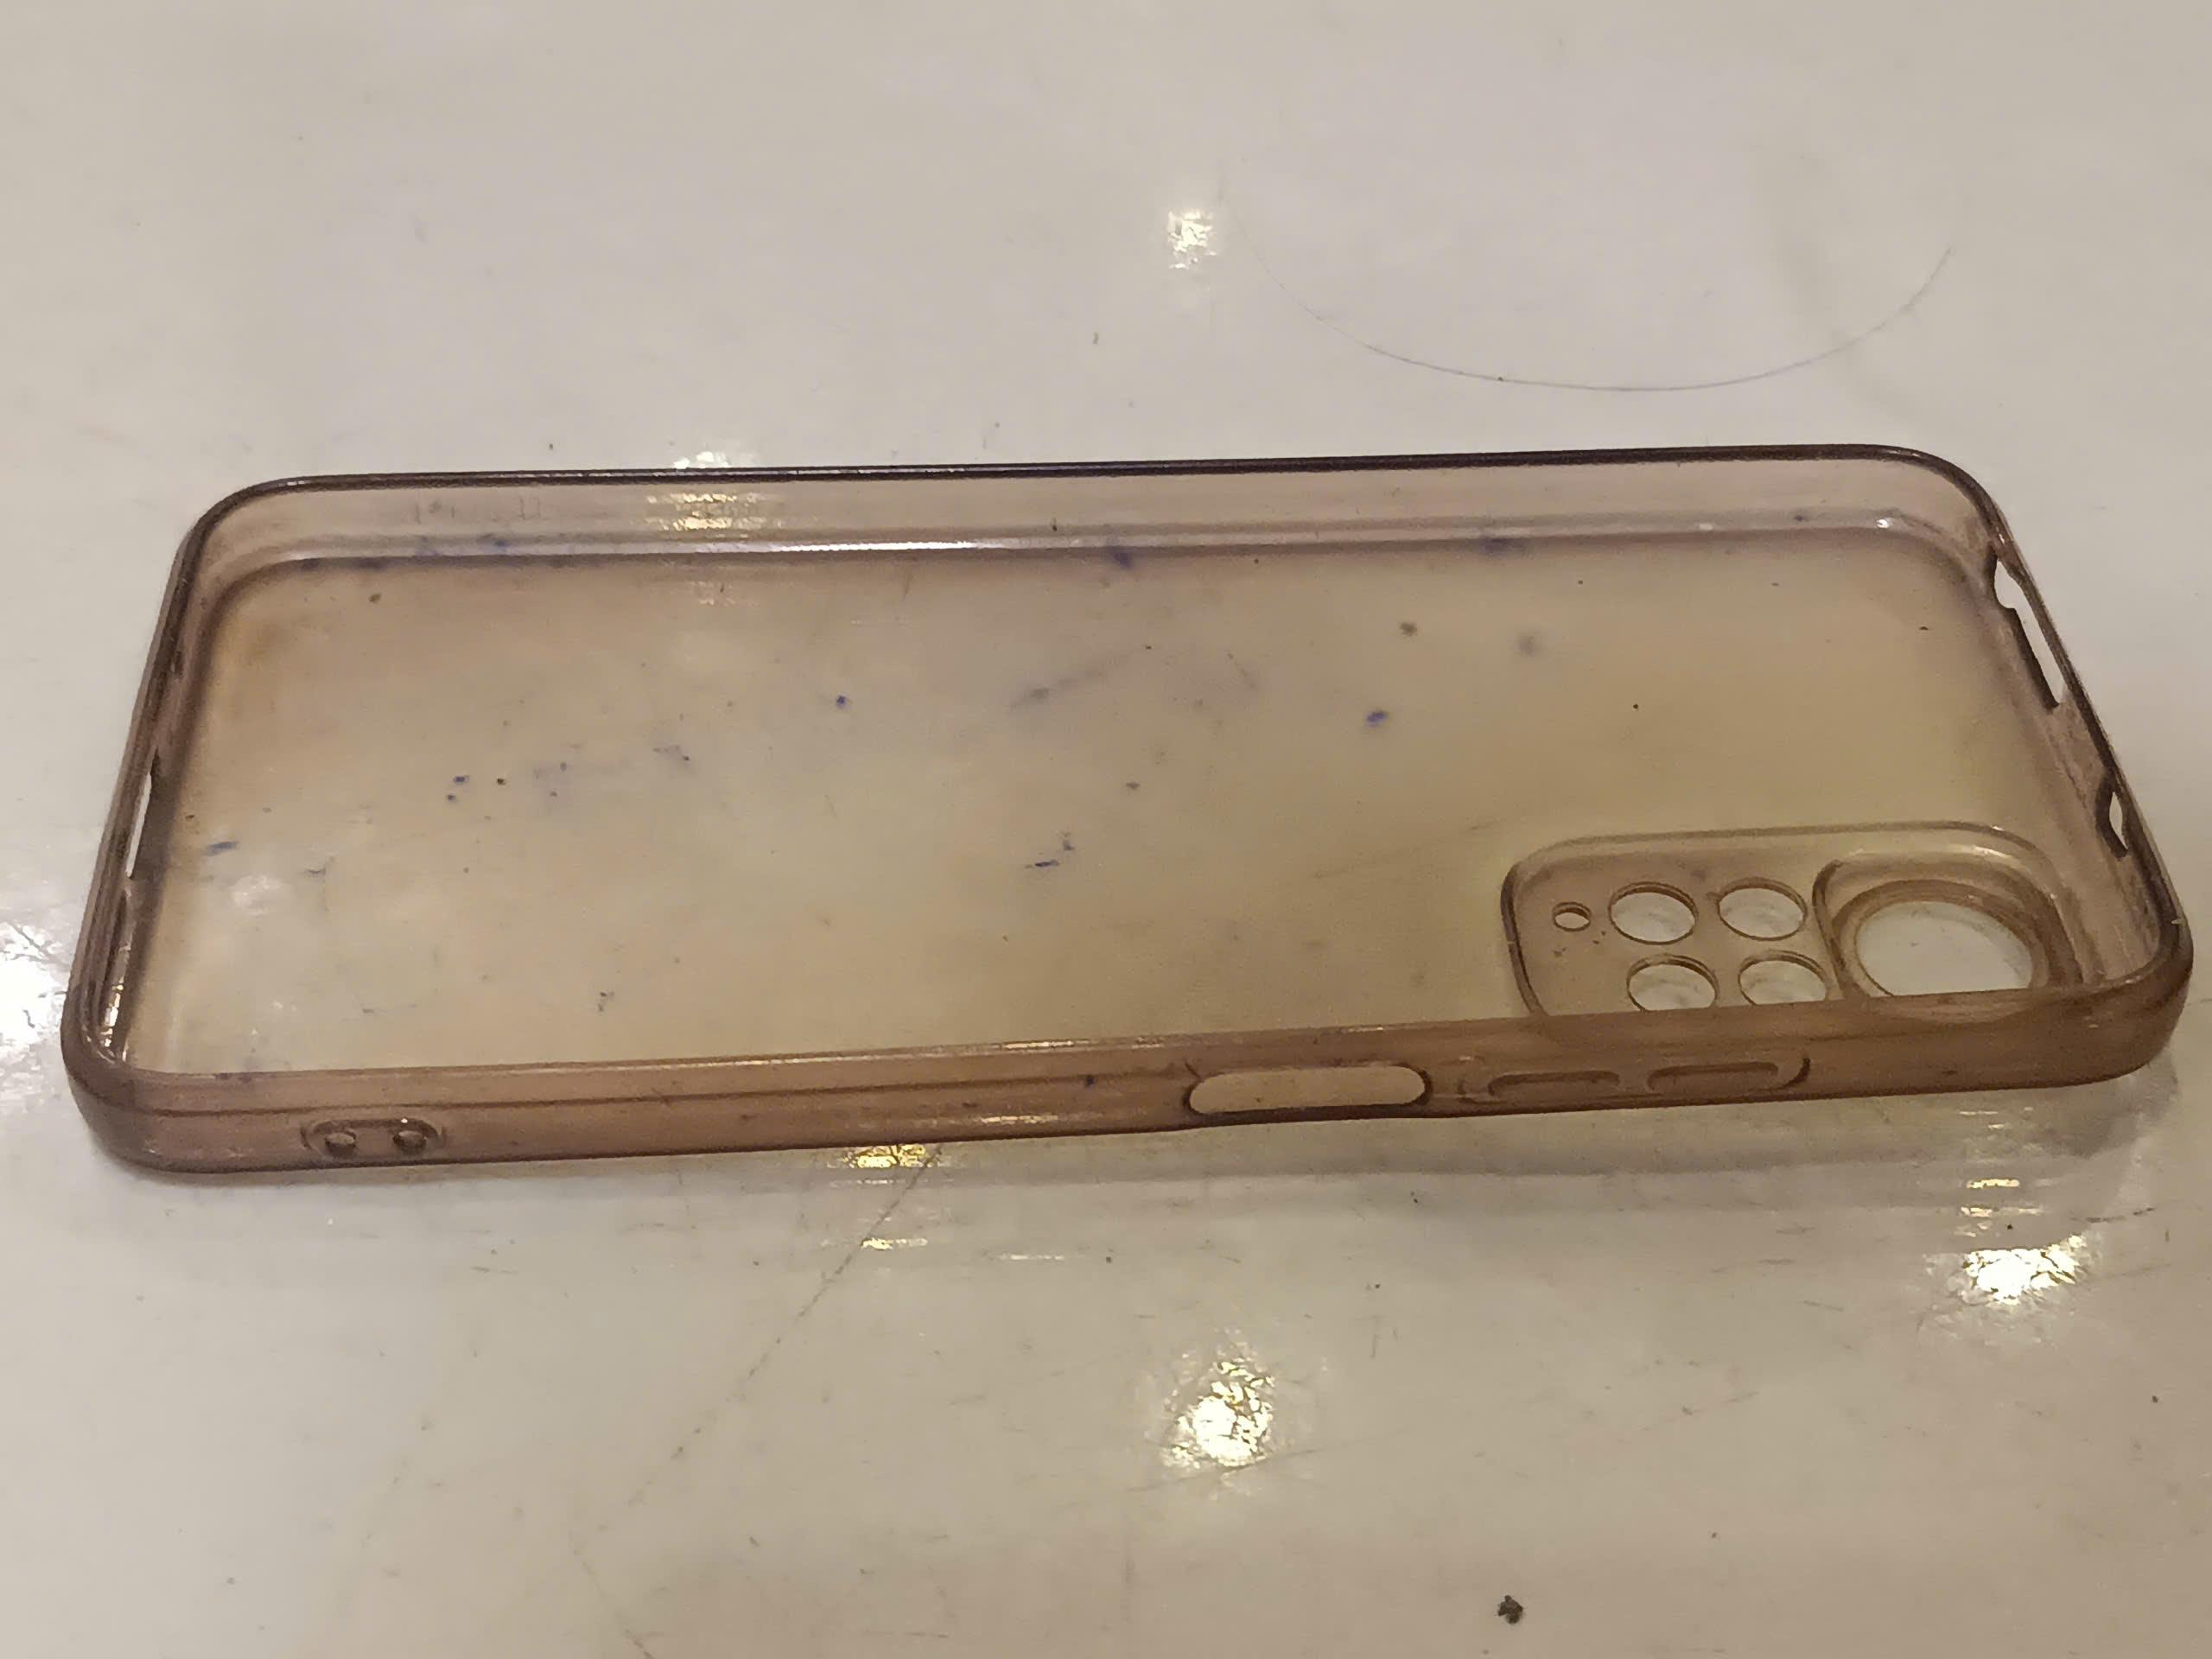Vo co: (70, 441, 2200, 1164)
